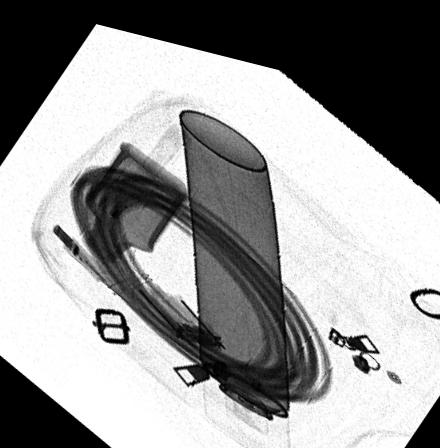Sprayer: (177, 99, 289, 446)
